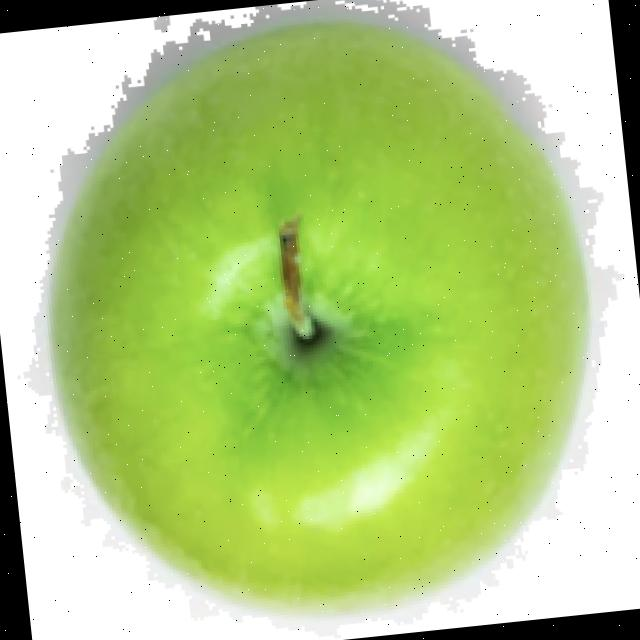apple: (14, 0, 625, 640)
